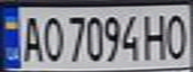0: (84, 12, 106, 63)
4: (121, 11, 142, 62)
7: (63, 11, 84, 63)
9: (103, 12, 124, 63)
A: (18, 11, 45, 63)
H: (139, 10, 172, 61)
O: (39, 11, 66, 63), (163, 9, 190, 61)
